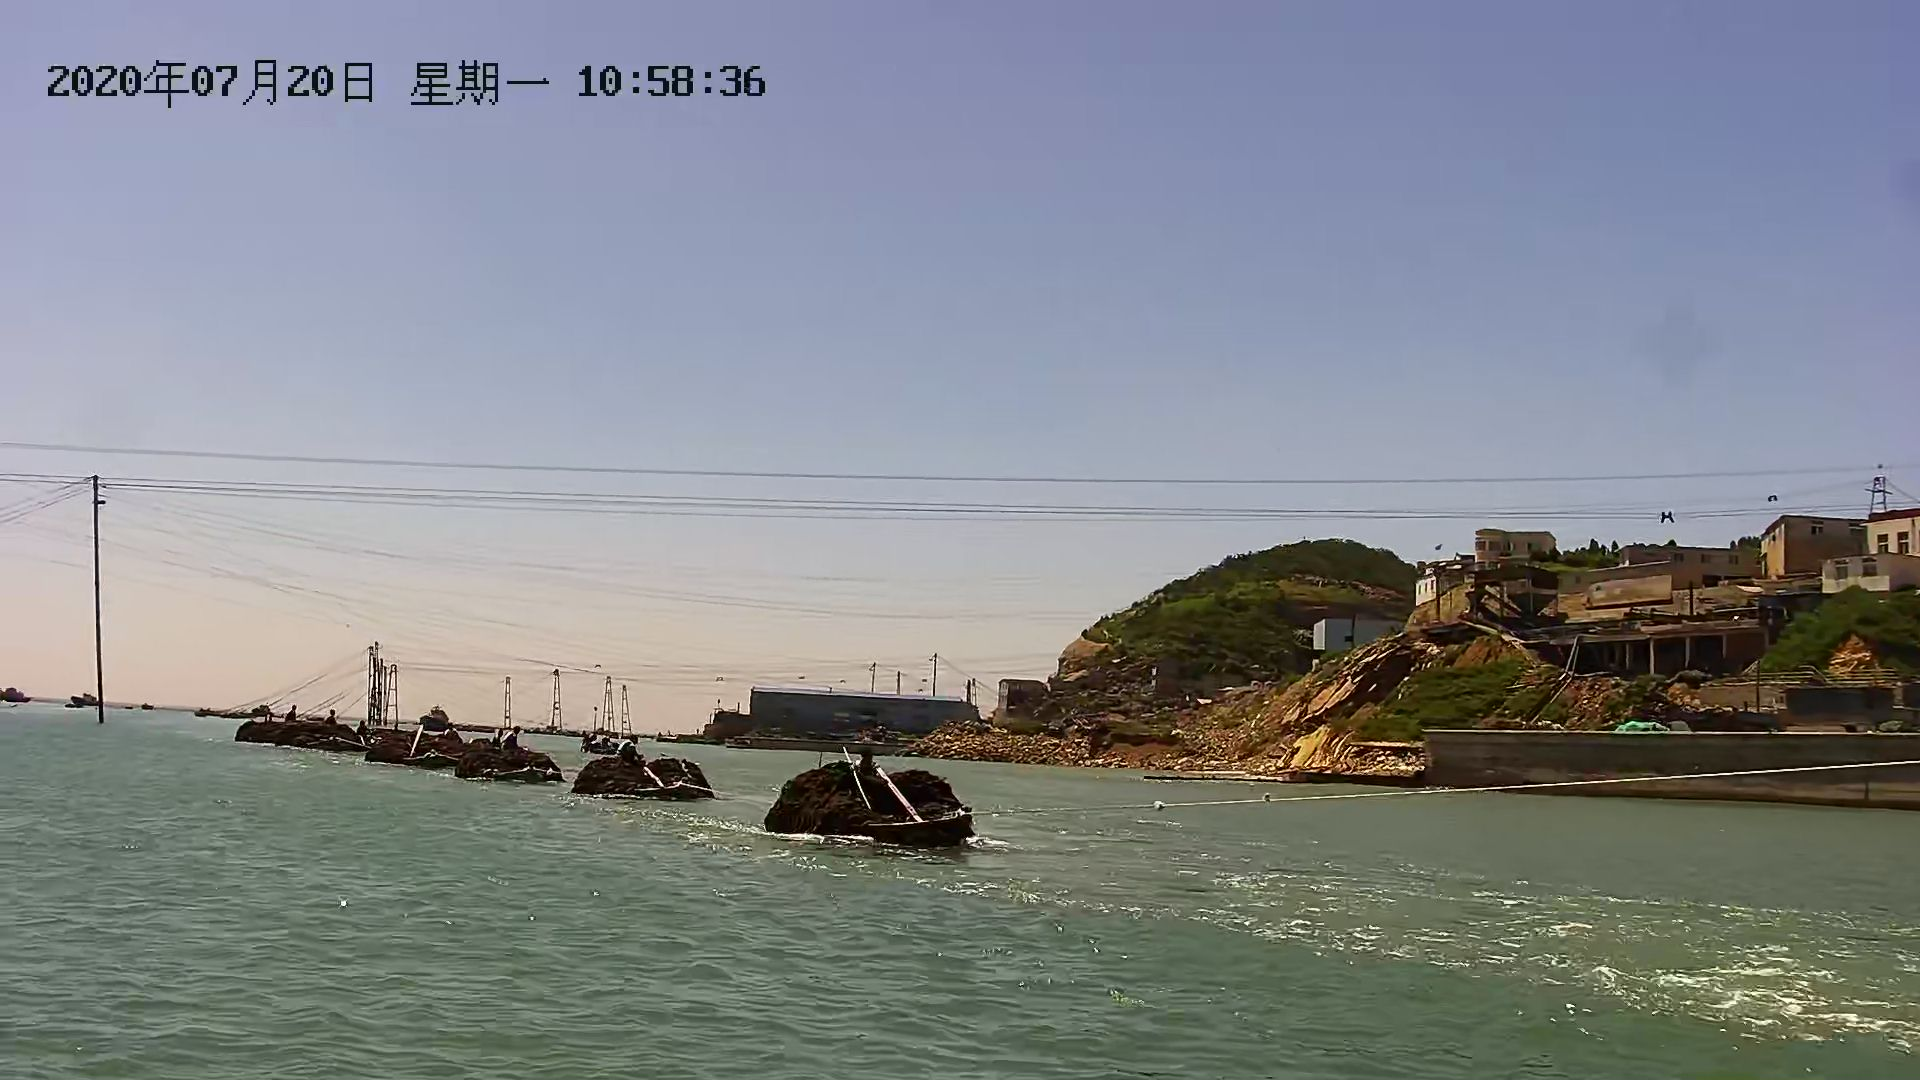mast: (86, 473, 113, 727)
rubbish: (767, 754, 968, 853), (572, 745, 716, 807), (452, 735, 563, 789), (244, 711, 357, 754), (377, 731, 458, 771)
